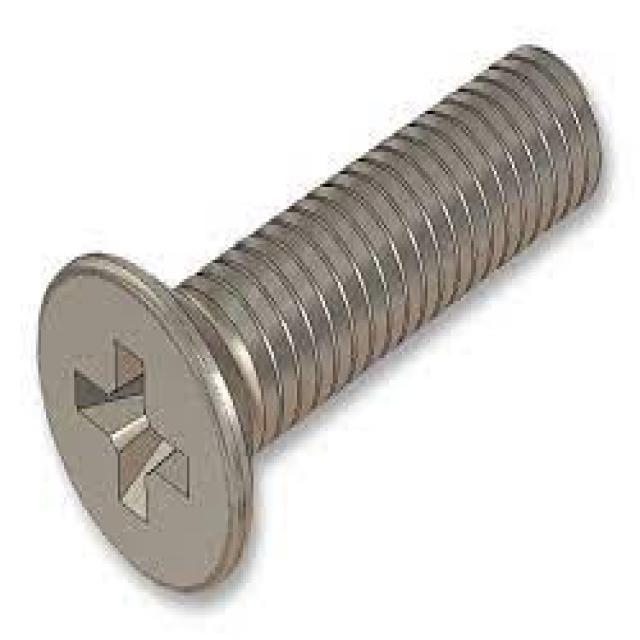Screw: (36, 44, 604, 596)
